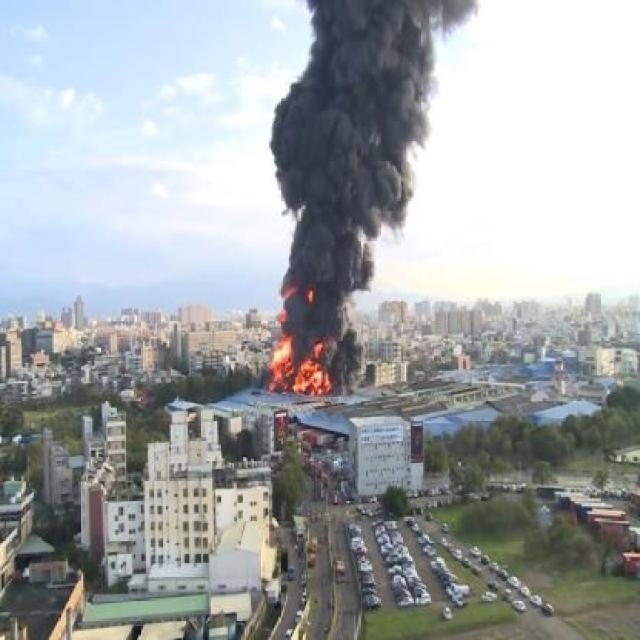Fire: (270, 280, 343, 393)
Smoke: (271, 0, 480, 277)
